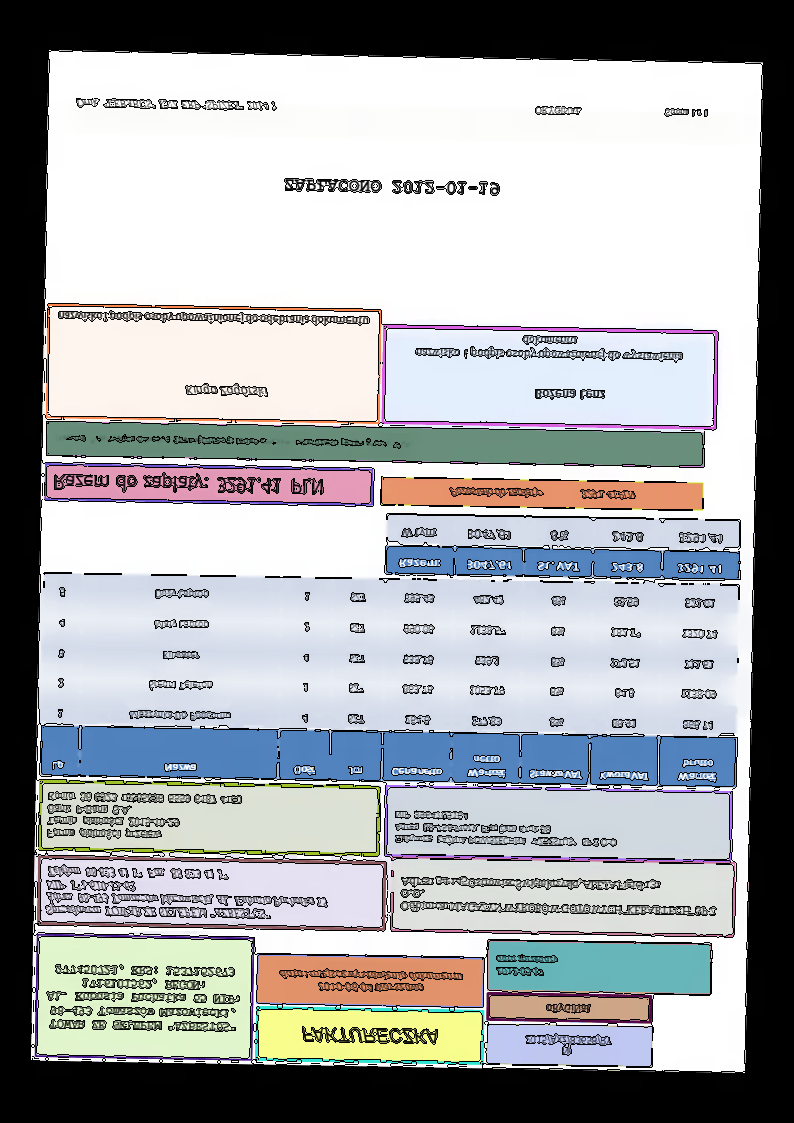Table: (39, 572, 740, 789), (384, 513, 741, 582)
TextBox: (44, 865, 329, 923), (398, 873, 717, 919), (44, 964, 241, 1034), (46, 790, 244, 843), (391, 808, 621, 850), (415, 332, 684, 364), (53, 431, 415, 452), (53, 472, 325, 499), (55, 308, 368, 330), (277, 968, 465, 995), (283, 177, 501, 198), (74, 95, 279, 114), (448, 484, 638, 503), (299, 1025, 440, 1048), (533, 103, 709, 120), (523, 1033, 614, 1059), (494, 953, 558, 979), (183, 382, 269, 401), (533, 386, 608, 403), (545, 1002, 593, 1016)
